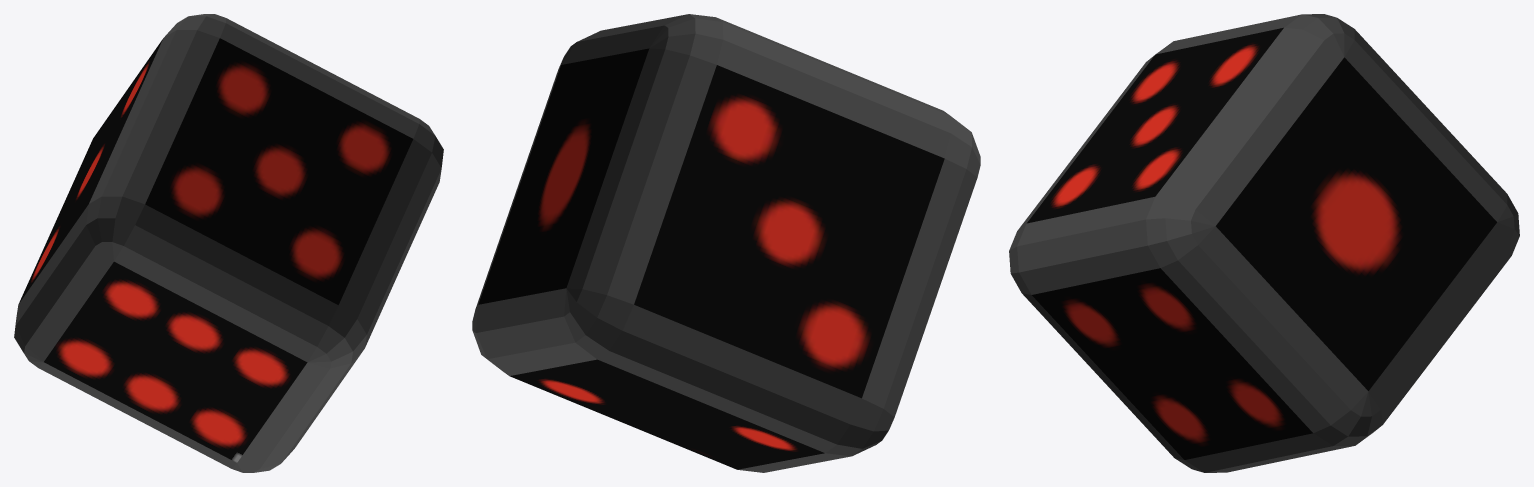
The model's file is xigo_lost.ico.obj.
The picture shows the model from 3 angles, left to right: view 1: azimuth 30°, elevation 25°; view 2: azimuth 150°, elevation 25°; view 3: azimuth 270°, elevation 25°; orthographic projection. The views are drawn at different scales.
Bounding box in the file's own units: 2.14 × 2.46 × 2.51.
1 material, 1 textured.
